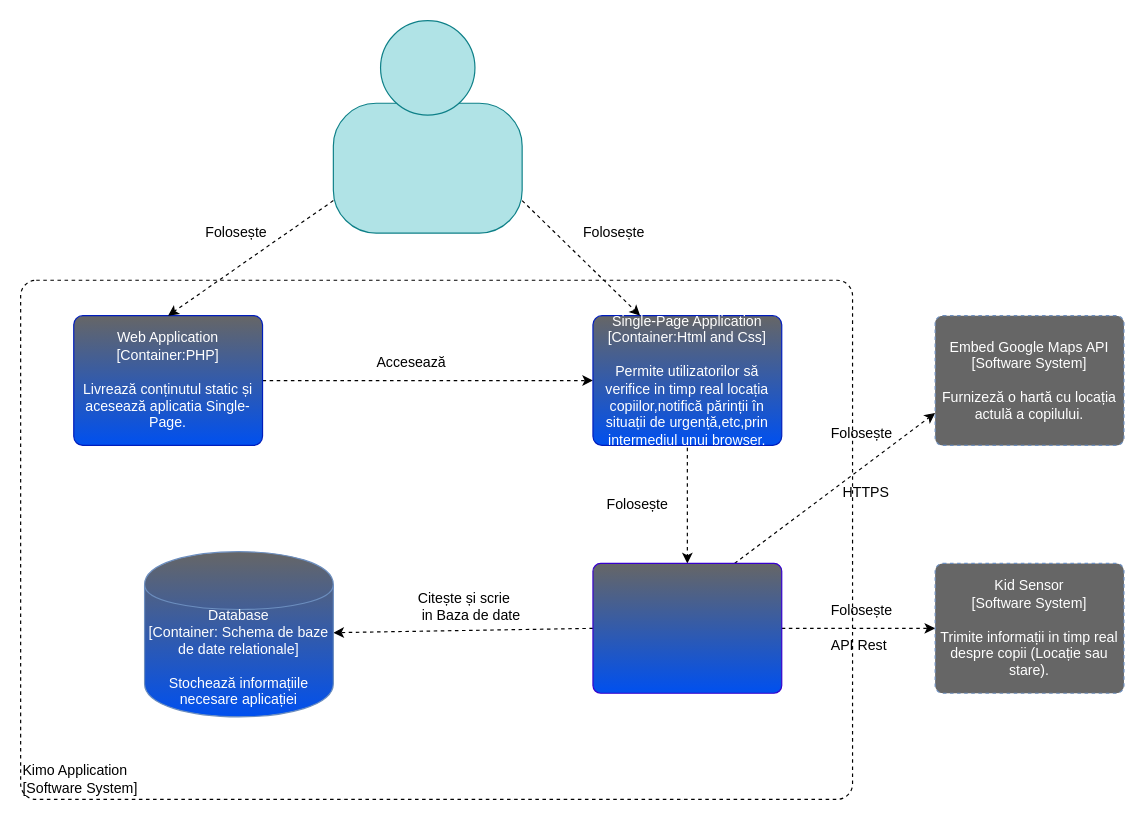
The diagram is 1145 pixels wide and 820 high, and some of its shapes have lost their labels. Each missing label, with the centre of its shape:
"API Application [Container: PHP ] Furnizează functionalitățile aplicației." goes at point (687, 627).
"Utilizator [Person] Un părinte ce dorește să iși monitorizez copiii" goes at point (427, 167).
